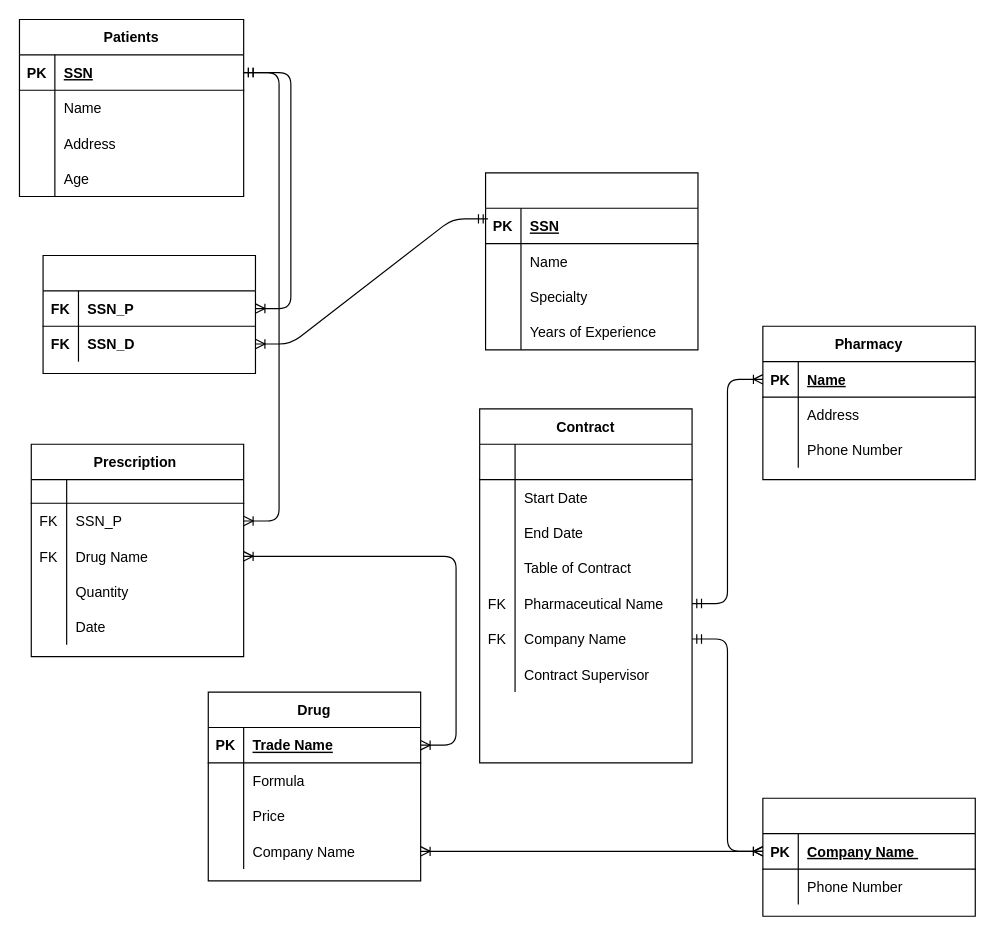
Image size: 995x936. Some labels were removed from this diagram. Here are the shapes that lost their labels. From the top down, the box of each, then its label:
(484, 172, 698, 350): Doctor
(42, 254, 255, 373): Appointment
(762, 797, 975, 916): Pharmaceutical Company
